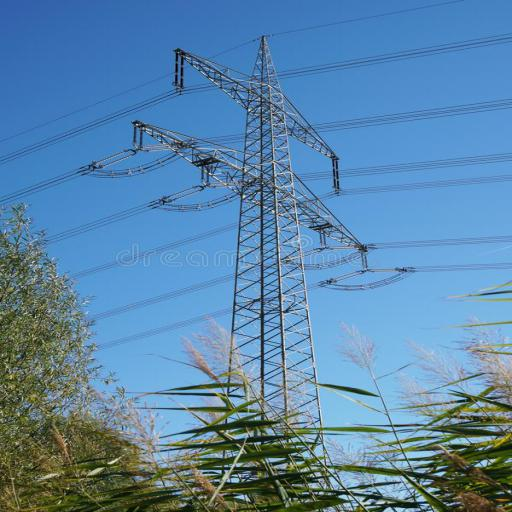ss_2: (130, 30, 367, 462)
